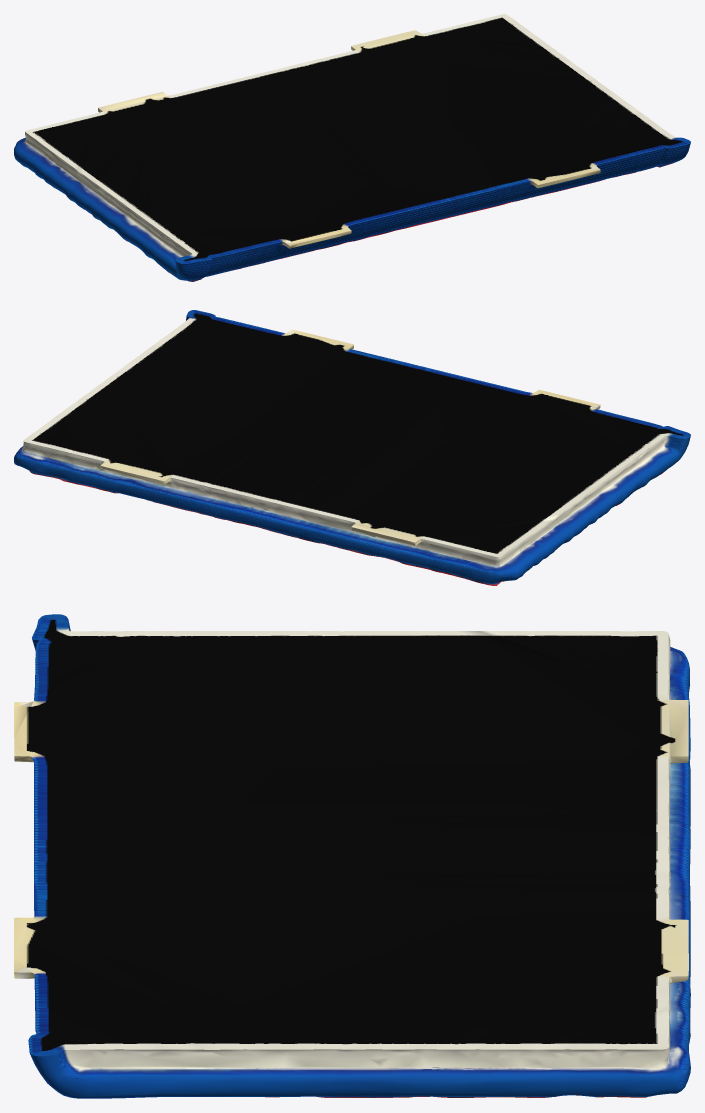
File: 7-roof.fbx
The picture shows the model from 3 angles, top to bottom: view 1: azimuth 30°, elevation 25°; view 2: azimuth 150°, elevation 25°; view 3: azimuth 270°, elevation 25°; orthographic projection. The views are drawn at different scales.
Visible parts, largest first — view 1: roof; view 2: roof; view 3: roof.
Boxes of the visible parts, x1=… form: roof: x1=14, y1=14, x2=690, y2=281; roof: x1=14, y1=310, x2=690, y2=585; roof: x1=14, y1=614, x2=690, y2=1098.
Size of the model in its own units: 10571 by 505 by 6835.
1 material, 1 textured.
